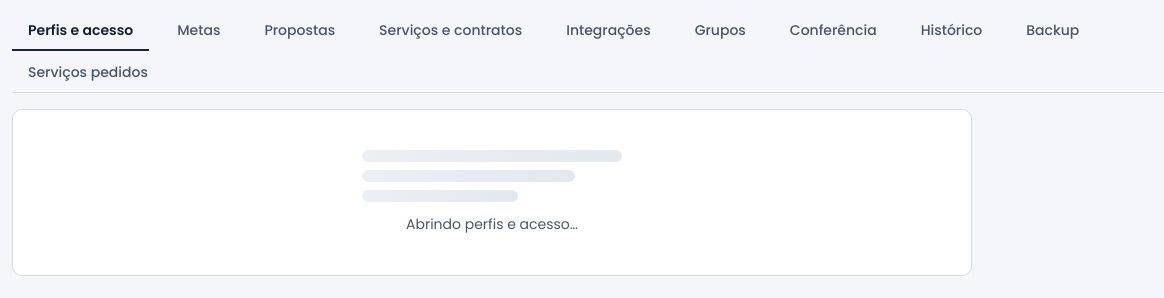
Test case: pedidos de serviço novo › sem pedido explica de onde eles vêm
Click the tab "Serviços pedidos" at (88, 74), box [12,54,164,93]
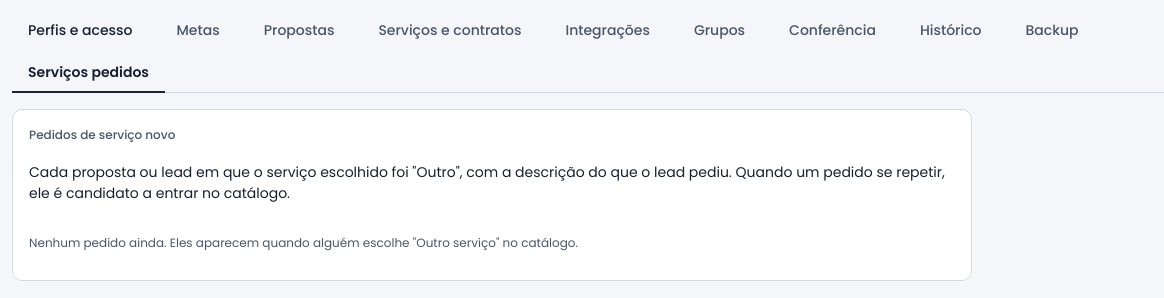
Result: the text "Nenhum pedido ainda" is shown at [29,234,578,251]
